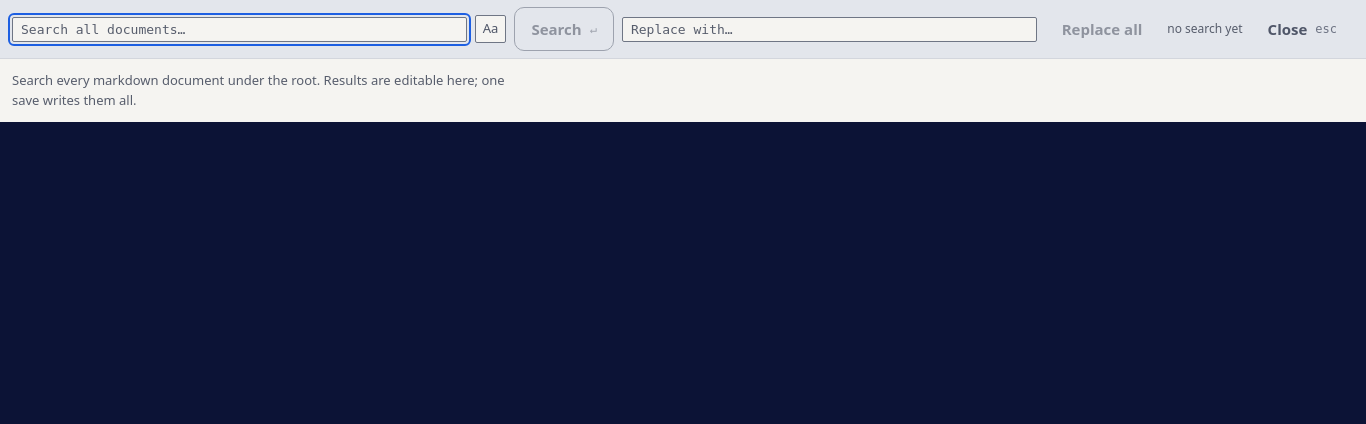
MultiBuffer › reports a failed save and keeps the file dirty
The image size is (1366, 424).
Type "needle" into the field labelled "Search all documents". click: (239, 29)
box: [12,16,467,42]
Then press Enter
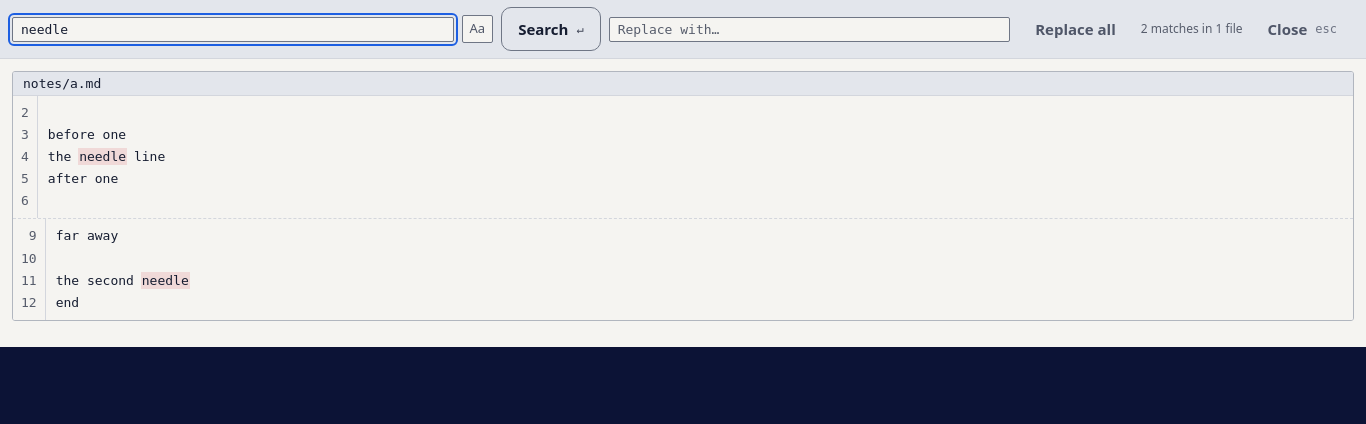
Check: the button "notes/a.md" is shown, box [23,76,101,91]
Type "x" into the text box named "Excerpt at line 2". click: (695, 157)
box: [38,96,1353,218]
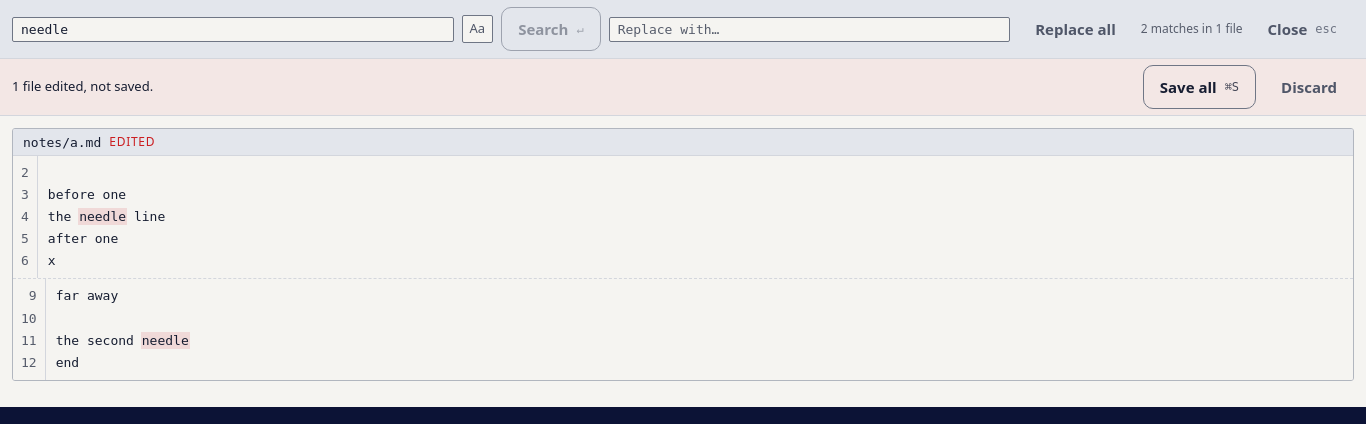
Click the button "Save all ⌘S". click: (1199, 87)
box: [1143,65,1256,109]
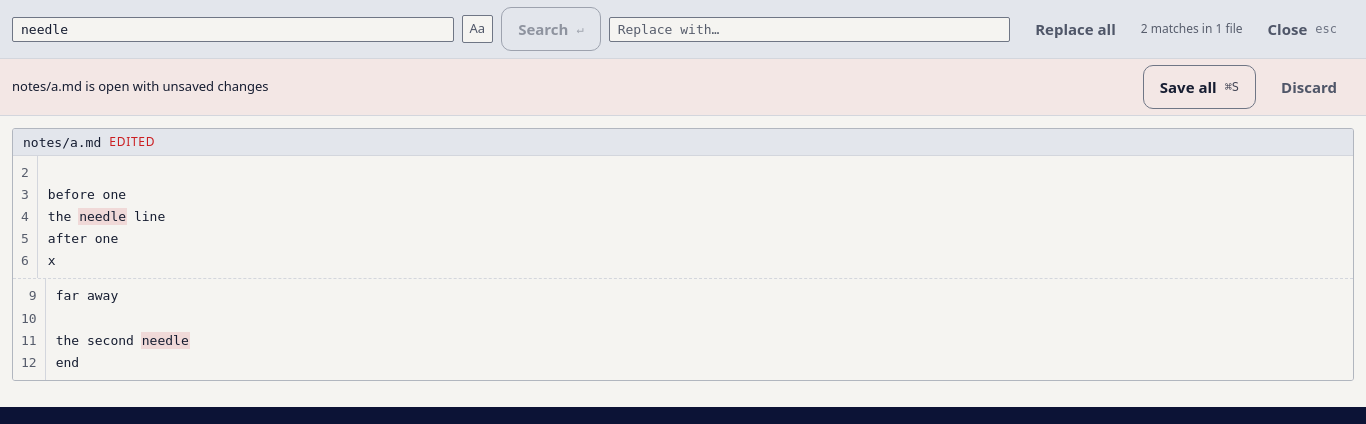
Check: the button "Search ↵" is disabled, box [501,7,601,51]
Check: the text "notes/a.md is open with unsaved changes" is shown, box [12,77,269,95]
